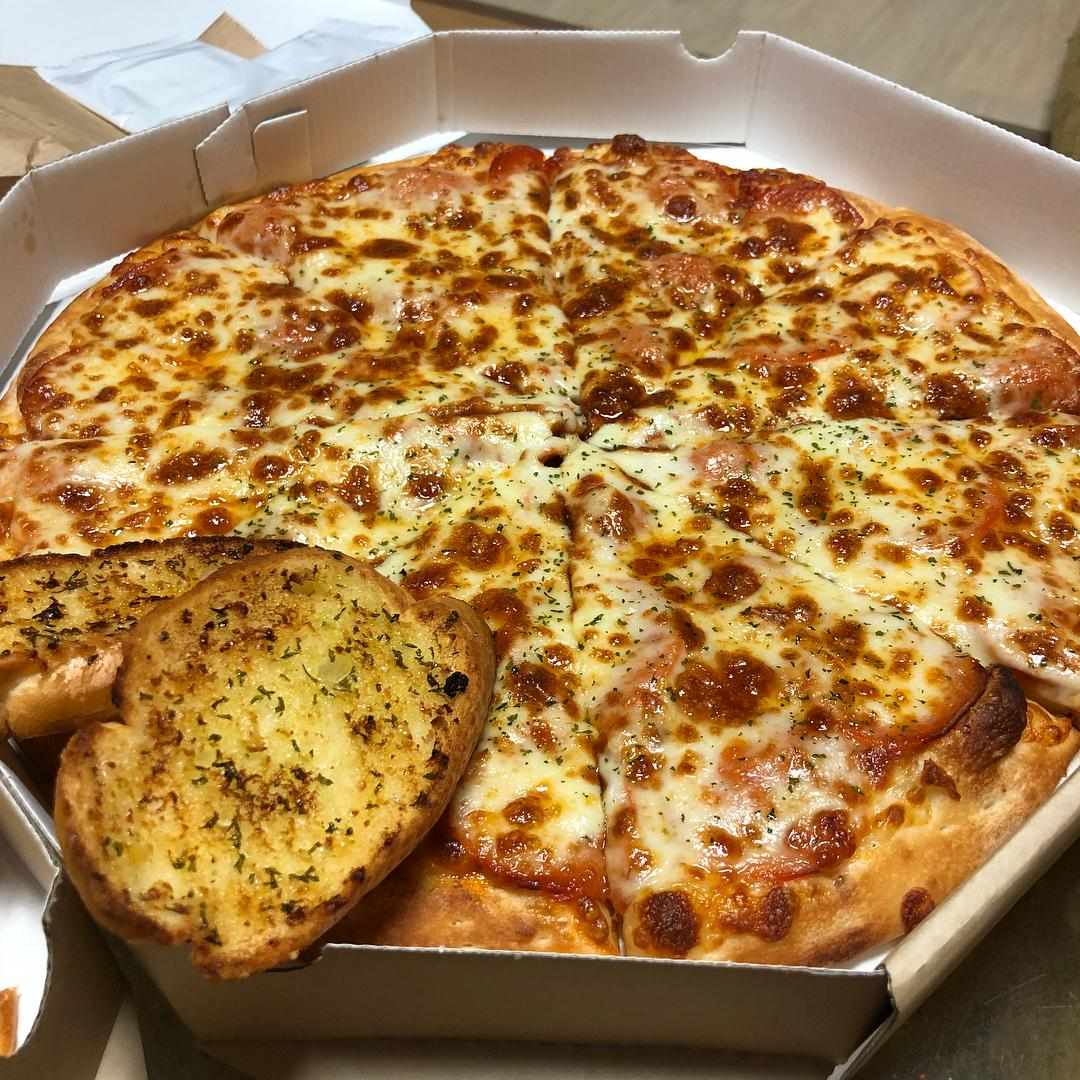Cheese: (367, 177, 800, 555), (816, 250, 980, 682), (510, 584, 772, 845), (116, 282, 344, 529), (996, 416, 1069, 608)
Pizza: (2, 145, 1080, 965)
